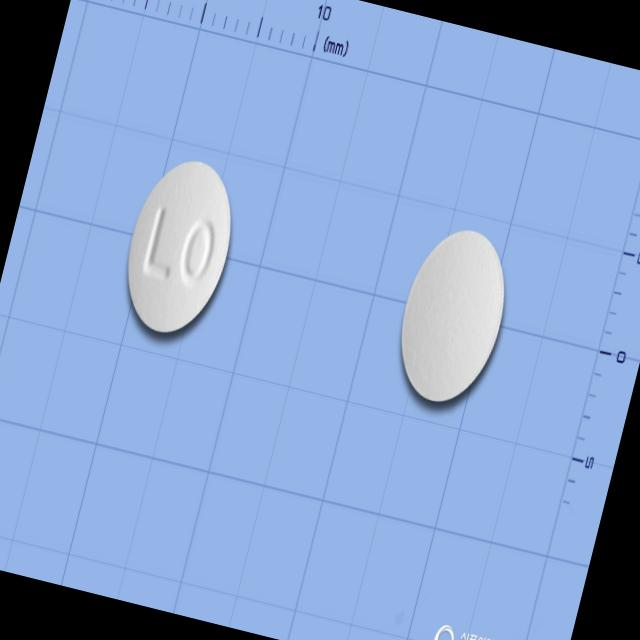Lebofacin: (110, 148, 248, 344)
